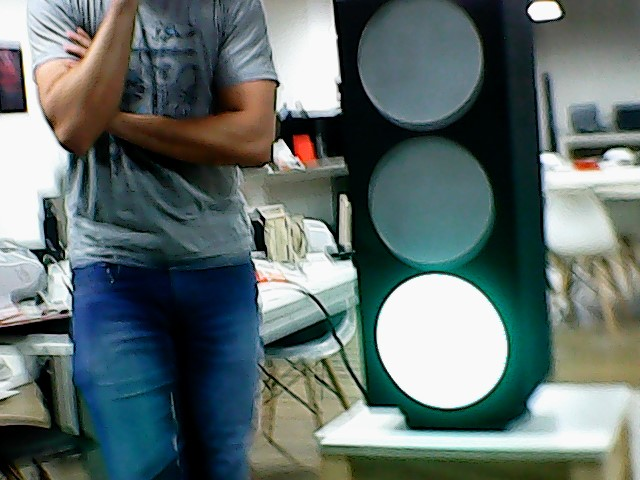verde: (320, 1, 576, 399)
